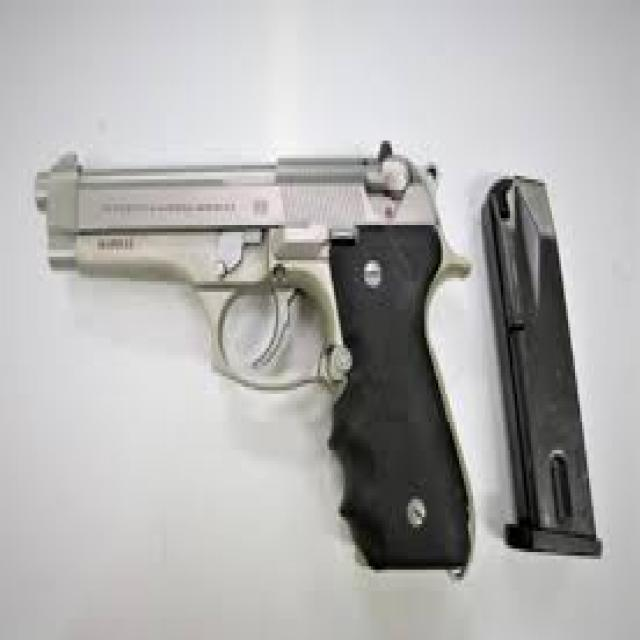semi automatic: (25, 123, 481, 590)
